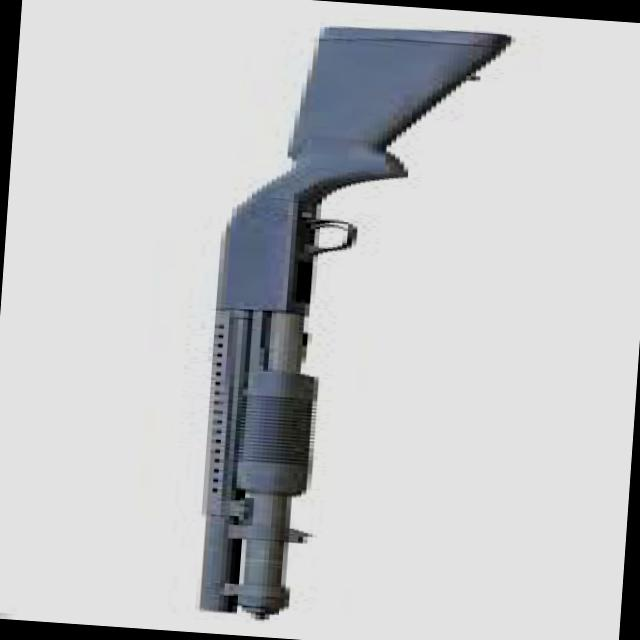long weapon: (93, 0, 606, 640)
